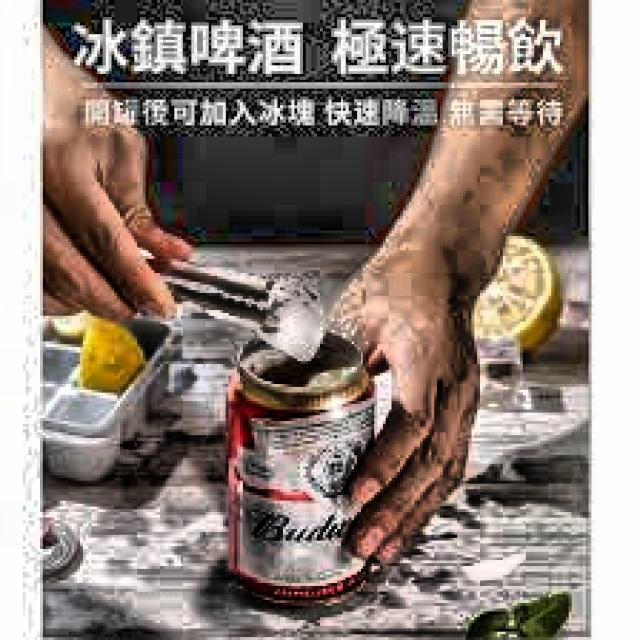can: (222, 326, 384, 611)
